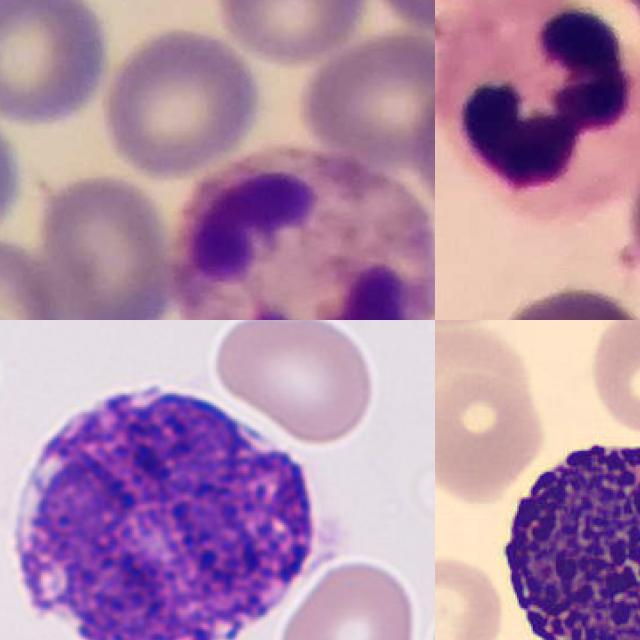Basophil: (0, 358, 364, 640), (490, 421, 640, 640)
Neutrophil: (162, 145, 435, 320), (435, 0, 640, 215)
RBC: (207, 320, 378, 446), (435, 366, 549, 503), (275, 556, 420, 640), (435, 551, 508, 640), (586, 320, 640, 440)
